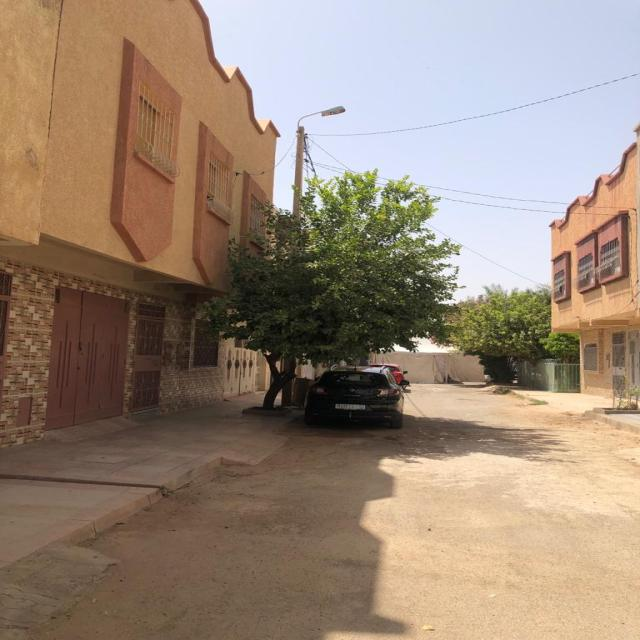Car: (305, 368, 404, 430)
Tree: (204, 172, 457, 410)
